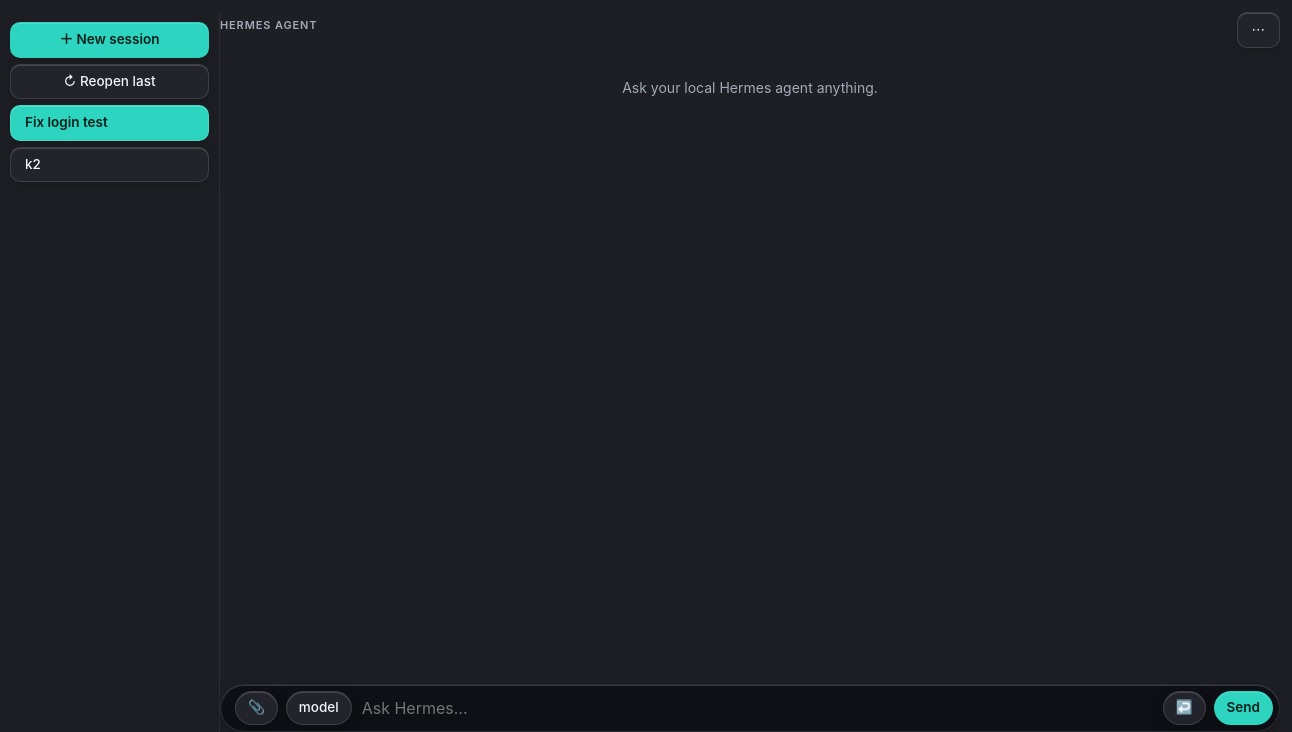
Test: HermesTab › sends a user message on Enter: prompt.submit + user bubble
Step 1. Type "hello" into the field with placeholder "Ask Hermes…" → [757, 708], box [360,696,1155,721]
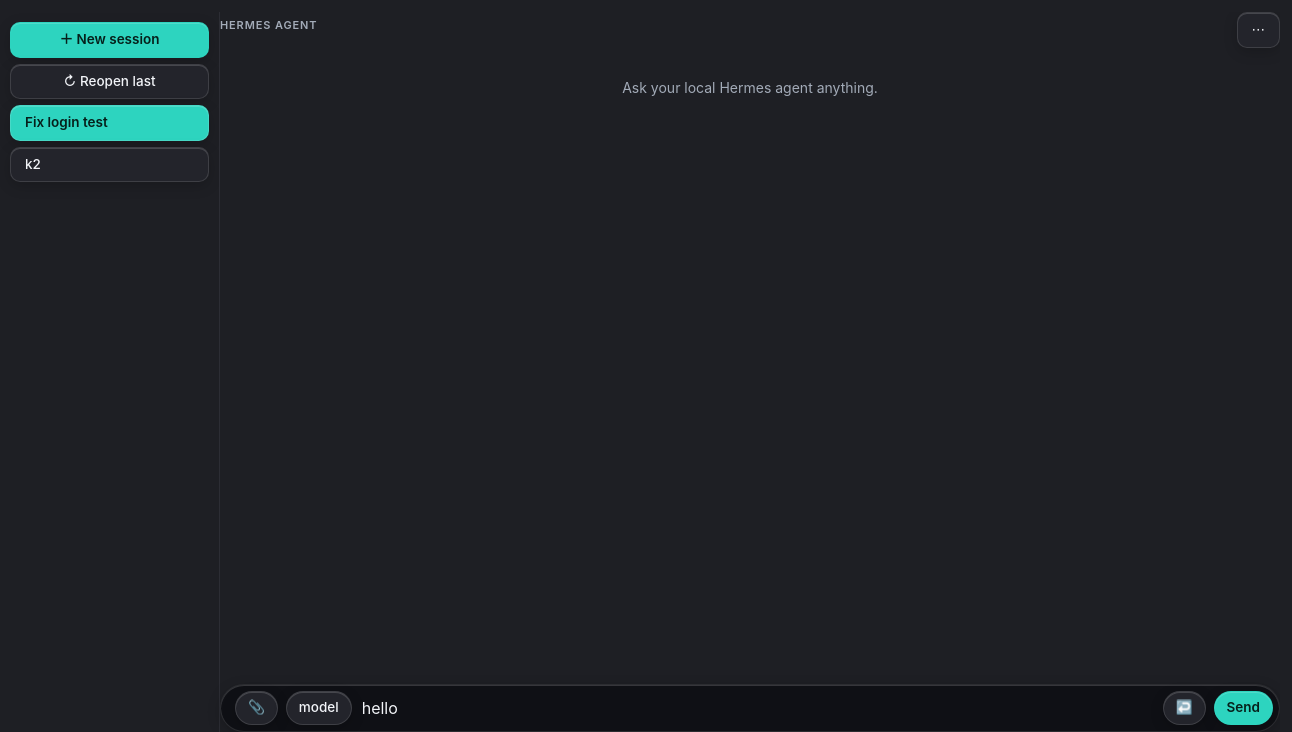
Step 2. Press Enter in the field with placeholder "Ask Hermes…", box [360,696,1155,721]
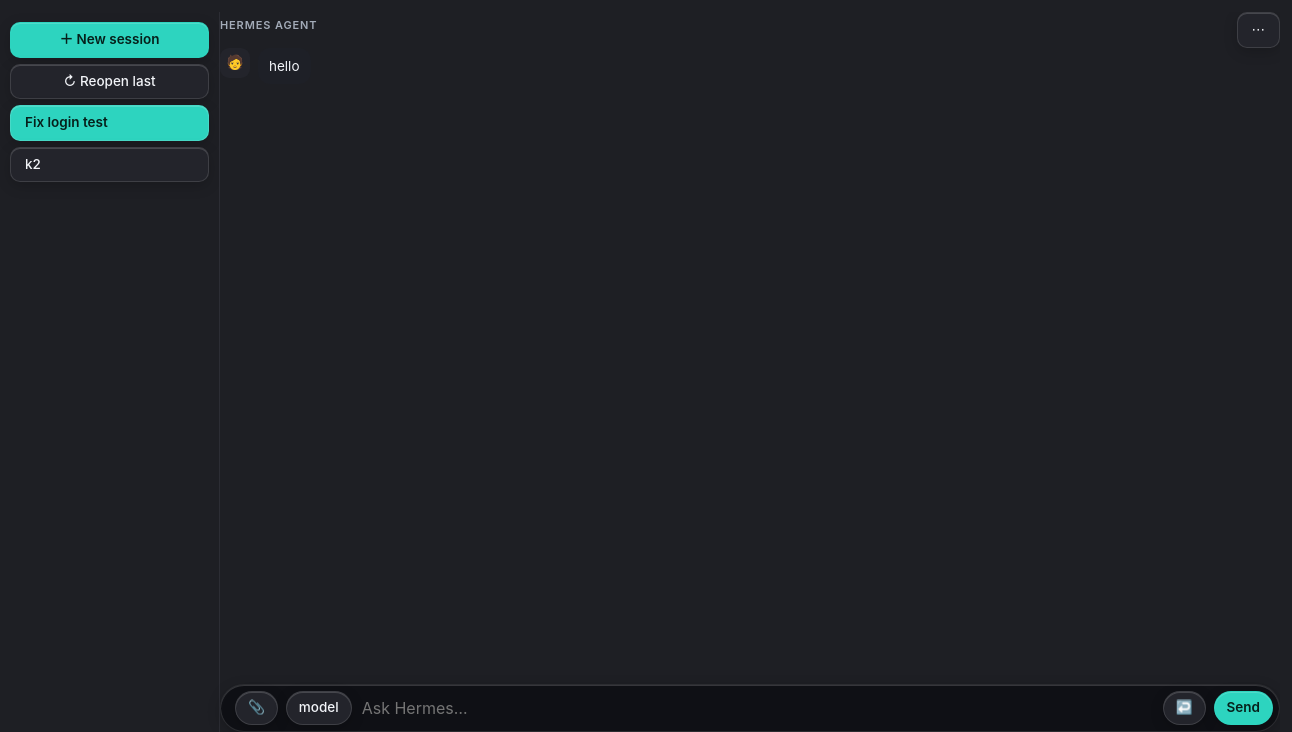
Check: the text "hello" is shown, box [269,58,300,74]
